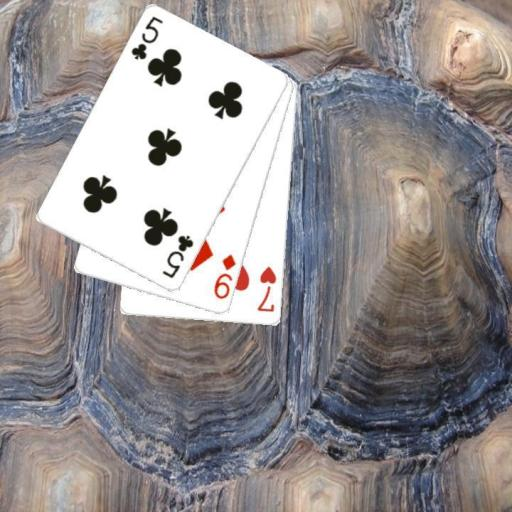card-corner: (128, 13, 164, 62), (159, 233, 196, 280), (210, 251, 238, 302), (255, 263, 278, 314)
